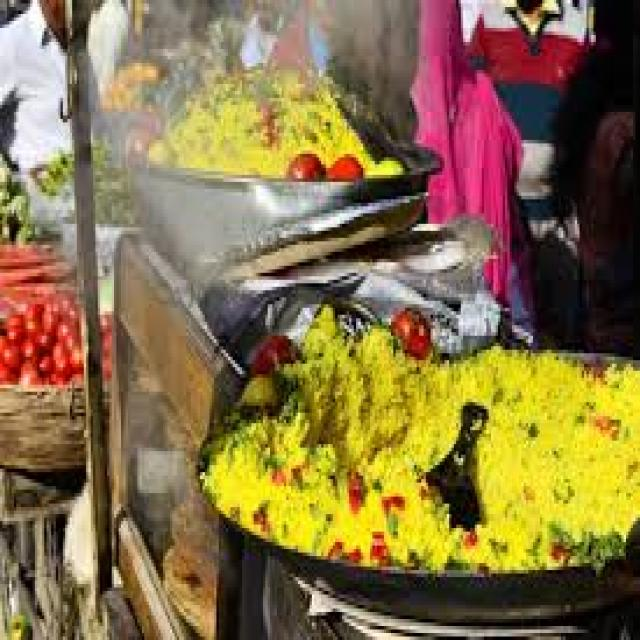POHA: (209, 299, 637, 569), (159, 52, 418, 181)
